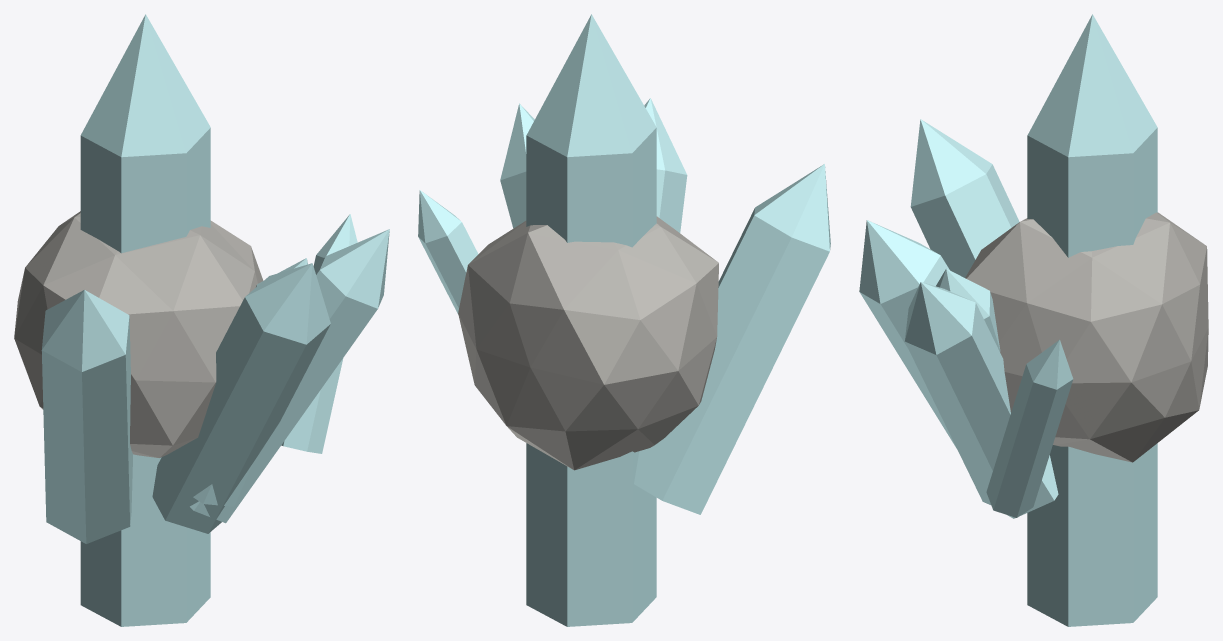
The model's file is crystal_node.glb.
3 views of the same model, side by side, from view 1: azimuth 30°, elevation 25°; view 2: azimuth 150°, elevation 25°; view 3: azimuth 270°, elevation 25° (orthographic).
Parts seen in each view (by area): view 1: crystal_node; view 2: crystal_node; view 3: crystal_node.
Boxes of the visible parts, x1,y1,x2,y2 form: crystal_node: [14, 14, 389, 626]; crystal_node: [418, 14, 830, 626]; crystal_node: [859, 14, 1208, 626].
Bounding box in the file's own units: 0.9692 × 1.5 × 0.8087.
